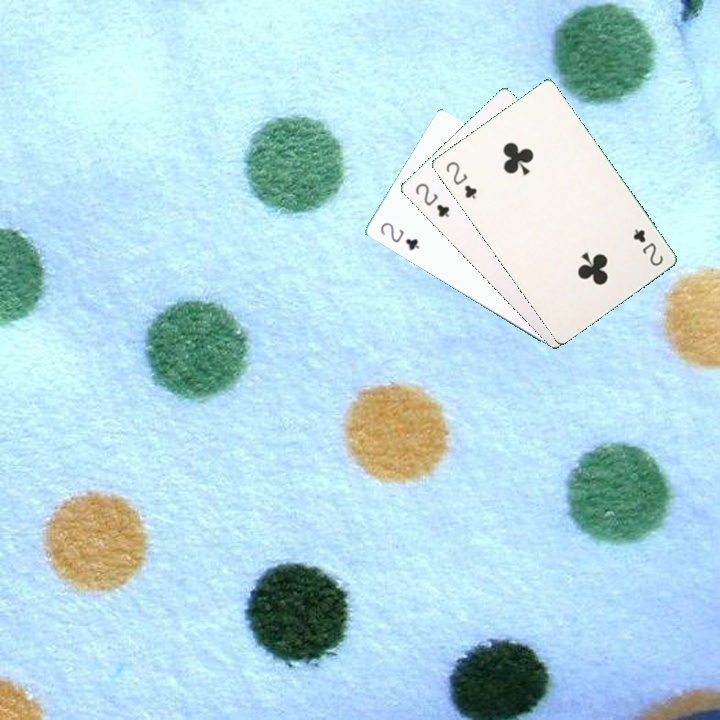2c: (441, 157, 480, 202), (411, 179, 452, 220), (629, 225, 666, 269), (376, 218, 422, 253)
